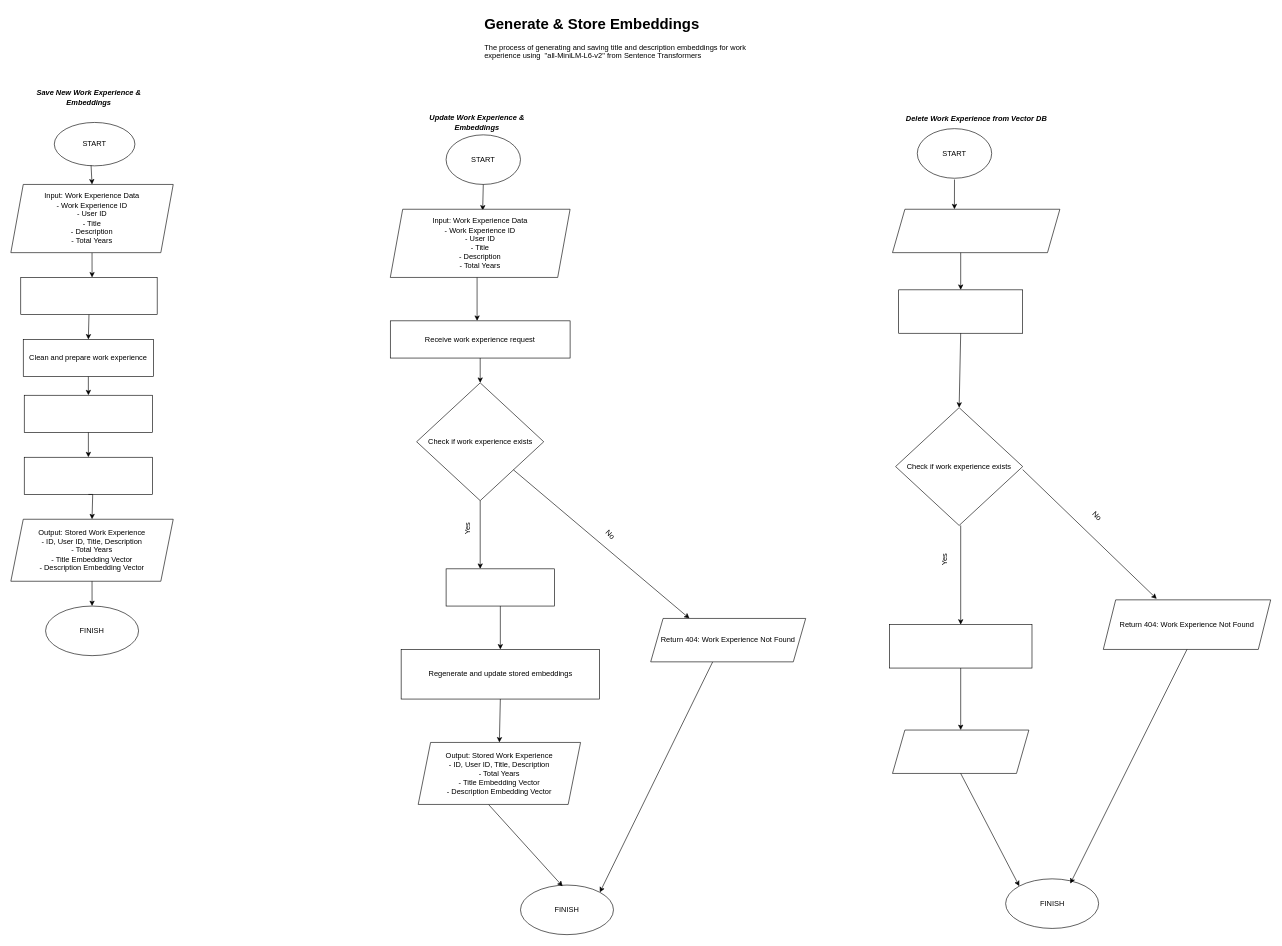
This 1282x946 diagram has some shape labels left out. The shapes that lost their labels are listed below. From the top down, each one's box as (x1, y1, x2, y2) in pixels, then its label:
(892, 209, 1060, 253): Input: Work Experience ID (path parameter)
(20, 277, 157, 315): Receive new users work experience
(898, 289, 1023, 333): Receive delete request for work experience
(24, 395, 153, 432): Generate AI embeddings for title & description
(24, 457, 153, 494): Store work experience and its vector representations
(445, 568, 555, 606): Clean and update job data
(889, 624, 1032, 668): Delete work experience from vector storage
(892, 729, 1029, 773): Output: Success message
